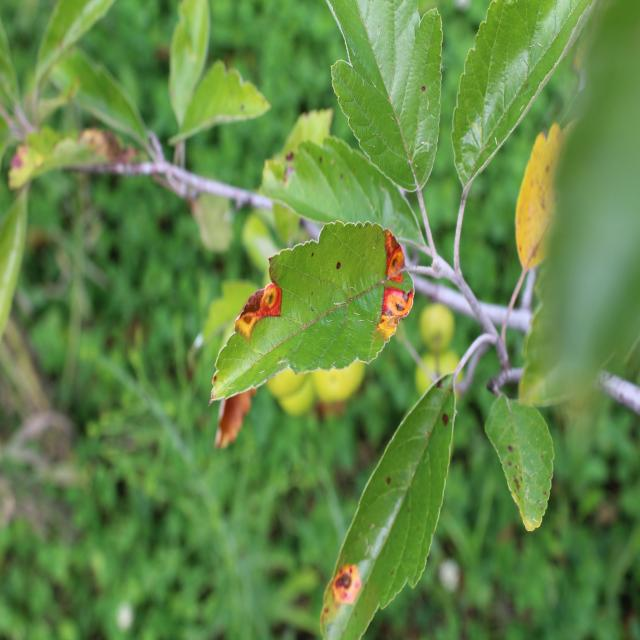Rust: (234, 274, 296, 354), (315, 550, 371, 620), (369, 284, 420, 344), (375, 223, 413, 284)
